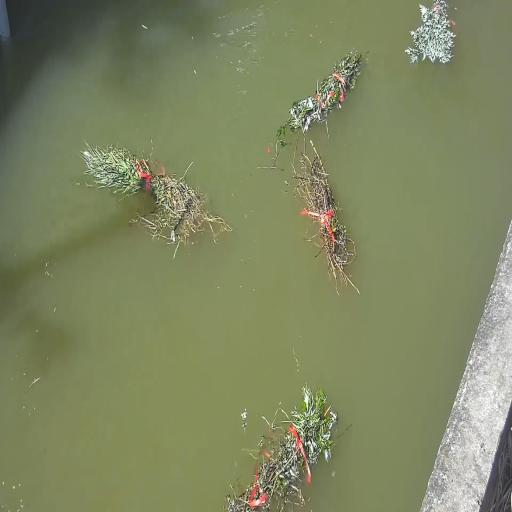twig: (81, 144, 230, 244), (294, 140, 355, 288), (277, 51, 362, 137), (405, 0, 455, 63), (289, 424, 310, 482)
